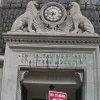Statue: (6, 2, 95, 48)
